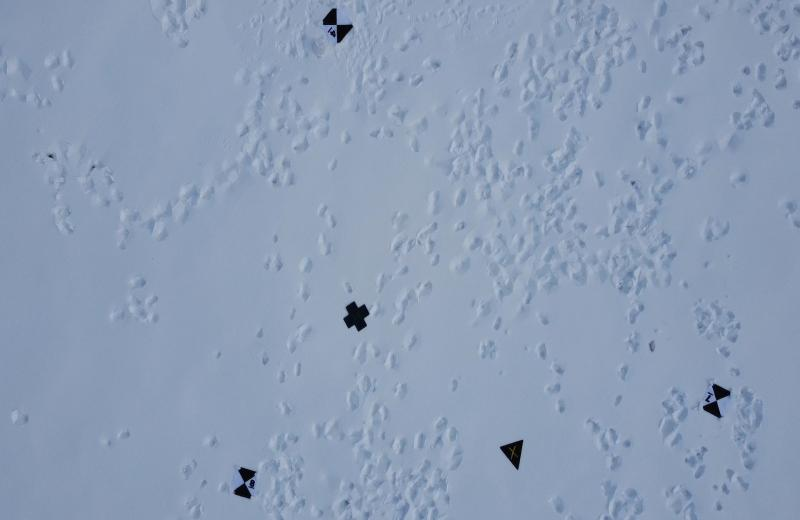Cross: (341, 302, 372, 337)
Triangle: (498, 436, 529, 471)
